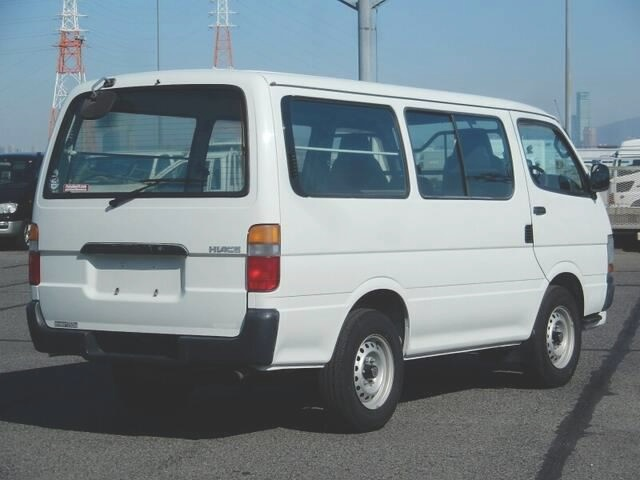van: (29, 65, 618, 411)
